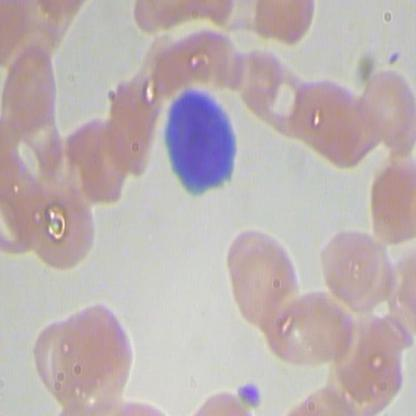RBC: (42, 297, 142, 413), (219, 225, 305, 335), (263, 285, 358, 367), (318, 224, 400, 314), (31, 187, 99, 273), (287, 68, 352, 153), (314, 87, 379, 171), (351, 64, 415, 148)
WBC: (155, 87, 244, 210)
